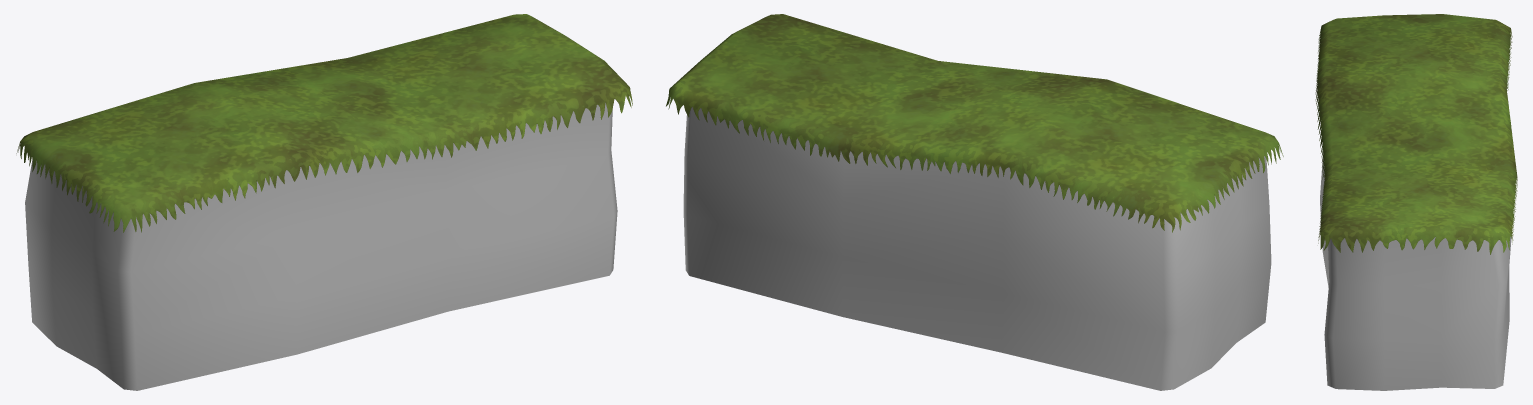
The model's file is 3x1x1_BrownJungleBlock.FBX.
3 renders of one model, left to right at view 1: azimuth 30°, elevation 25°; view 2: azimuth 150°, elevation 25°; view 3: azimuth 270°, elevation 25°, orthographic. The views are drawn at different scales.
Visible parts, largest first — view 1: Ground3x1x03, grassTop3x03; view 2: Ground3x1x03, grassTop3x03; view 3: grassTop3x03, Ground3x1x03.
Boxes of the visible parts, left/top/right/bottom form: Ground3x1x03: left=25, top=103, right=617, bottom=390; grassTop3x03: left=16, top=14, right=632, bottom=232; Ground3x1x03: left=683, top=107, right=1271, bottom=390; grassTop3x03: left=666, top=14, right=1283, bottom=232; grassTop3x03: left=1315, top=14, right=1517, bottom=254; Ground3x1x03: left=1320, top=87, right=1512, bottom=390.
Bounding box in the file's own units: 611 × 223 × 235.
